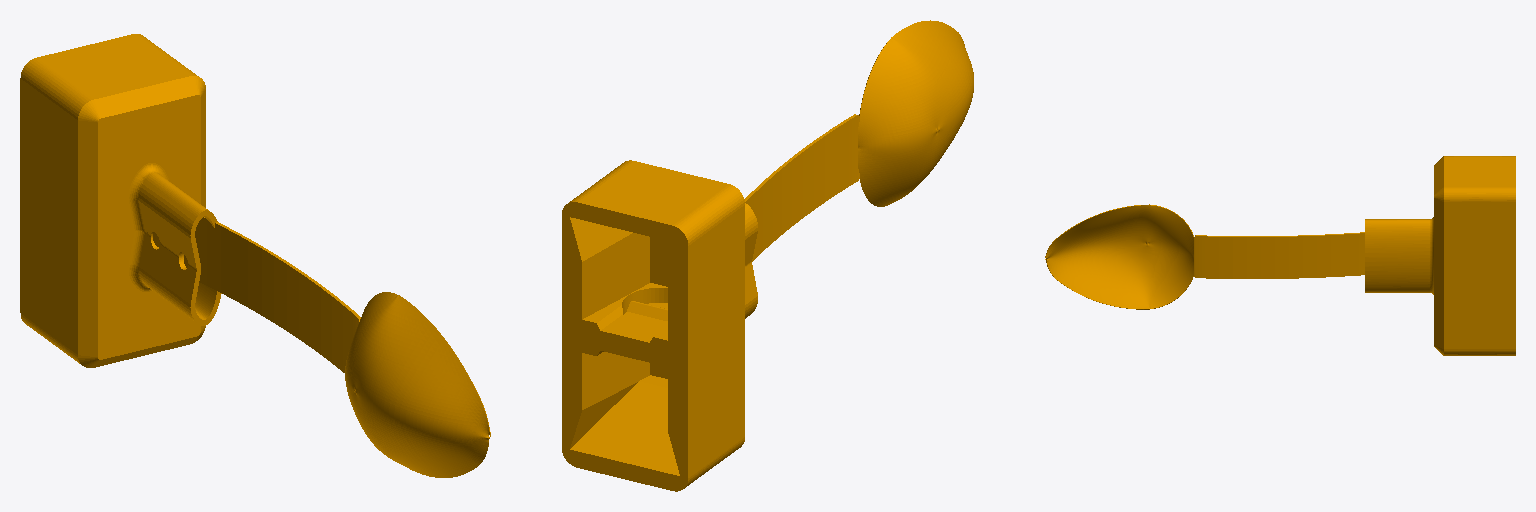
URDF robot description (spoon_rounded):
<?xml version="1.0"?>

<robot name="spoon_rounded">
  <link name="spoon_rounded_frame">
    <visual>
      <geometry>
        <mesh filename="package://iai_kitchen/meshes/racks/BoxyToolholder/Holder_Spoon.stl"/>
      </geometry>
    </visual>
  </link>
</robot>

--- What the picture shows (computed from the rendered views, not written in the file) ---
The picture shows the robot from 3 angles, left to right: view 1: azimuth 30°, elevation 25°; view 2: azimuth 150°, elevation 25°; view 3: azimuth 270°, elevation 25°; orthographic projection.
Robot: spoon_rounded — 1 links, 0 joints (none); root link spoon_rounded_frame; default pose: all joints at 0.
Links seen in each view (by area): view 1: spoon_rounded_frame; view 2: spoon_rounded_frame; view 3: spoon_rounded_frame.
Link boxes in pixels (x1=…): spoon_rounded_frame: x1=20, y1=34, x2=490, y2=477; spoon_rounded_frame: x1=562, y1=20, x2=973, y2=491; spoon_rounded_frame: x1=1045, y1=156, x2=1515, y2=355.
Bounding box of the posed robot: 4 × 20.31 × 8 m (x, y, z).
Meshes: 1 distinct files referenced, 1 mesh visuals loaded (1 binary STL).